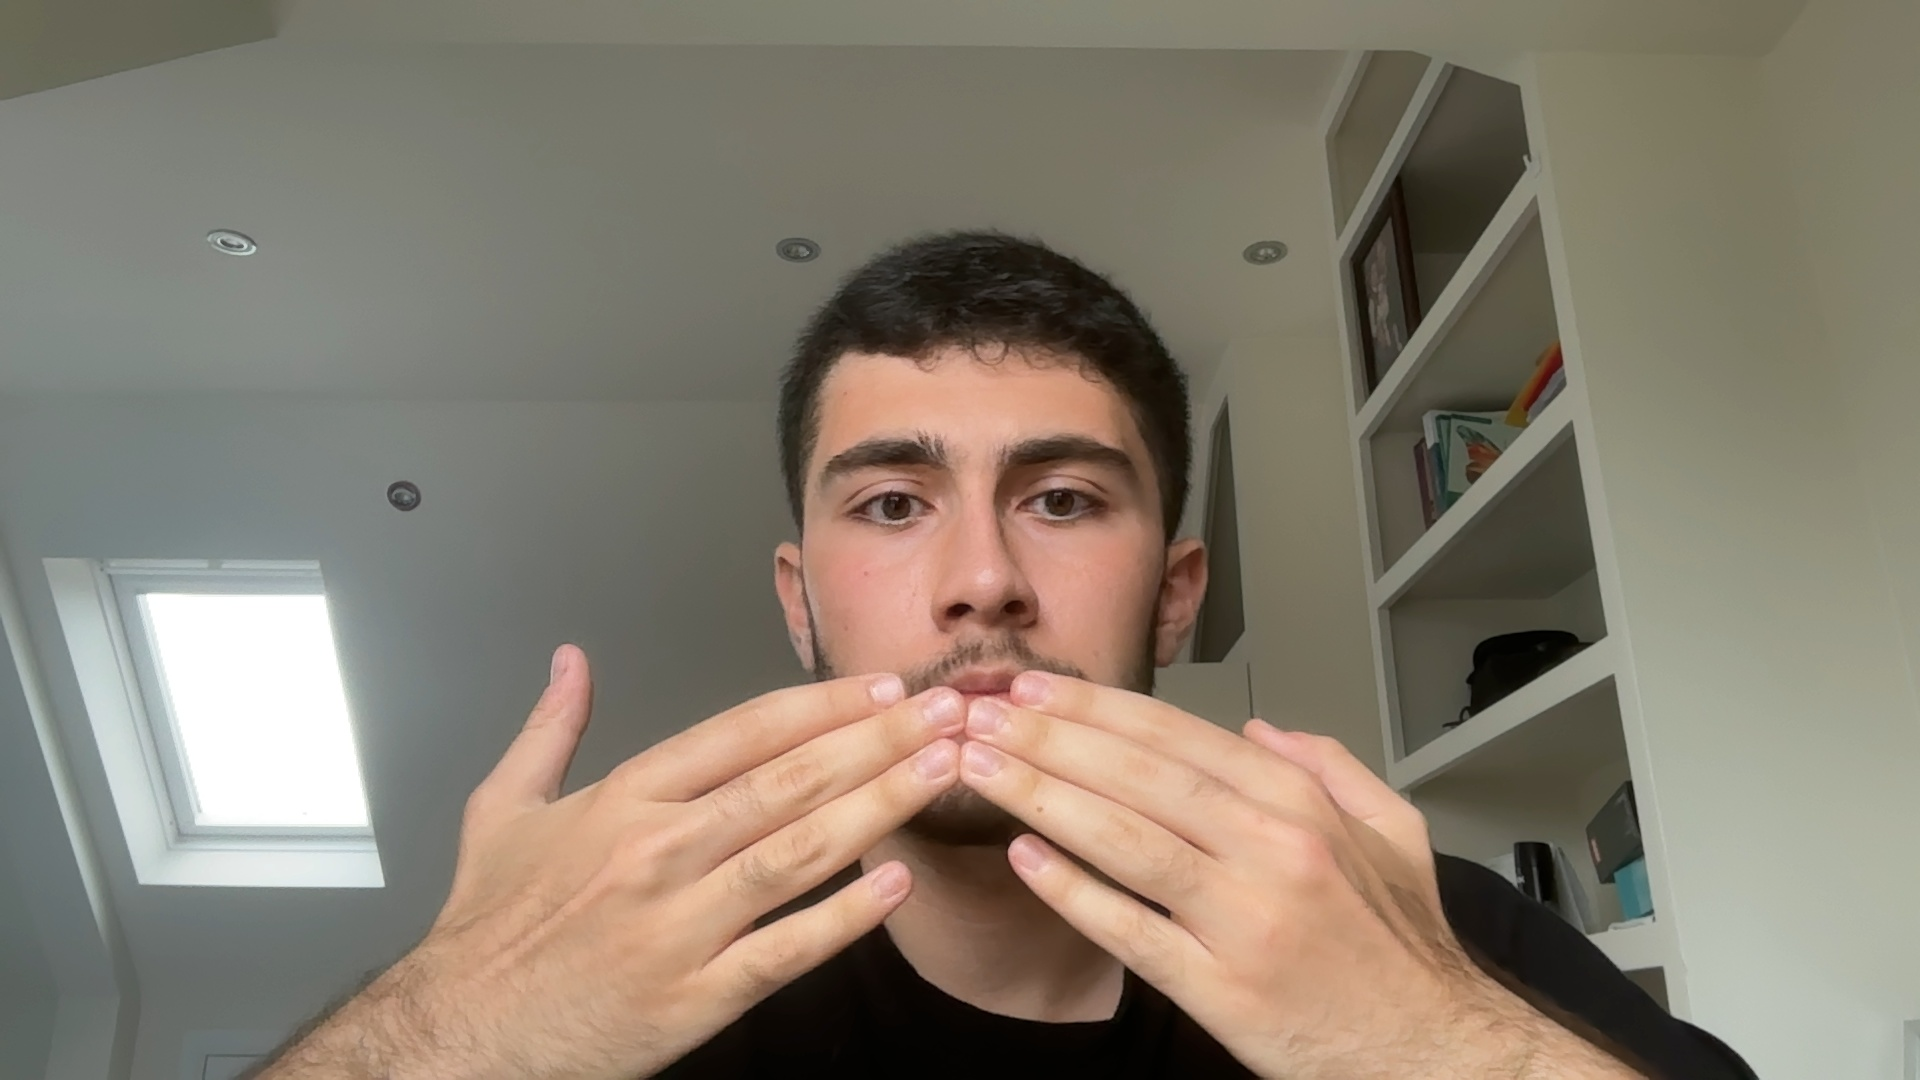Thank You: (323, 632, 1602, 1080)
